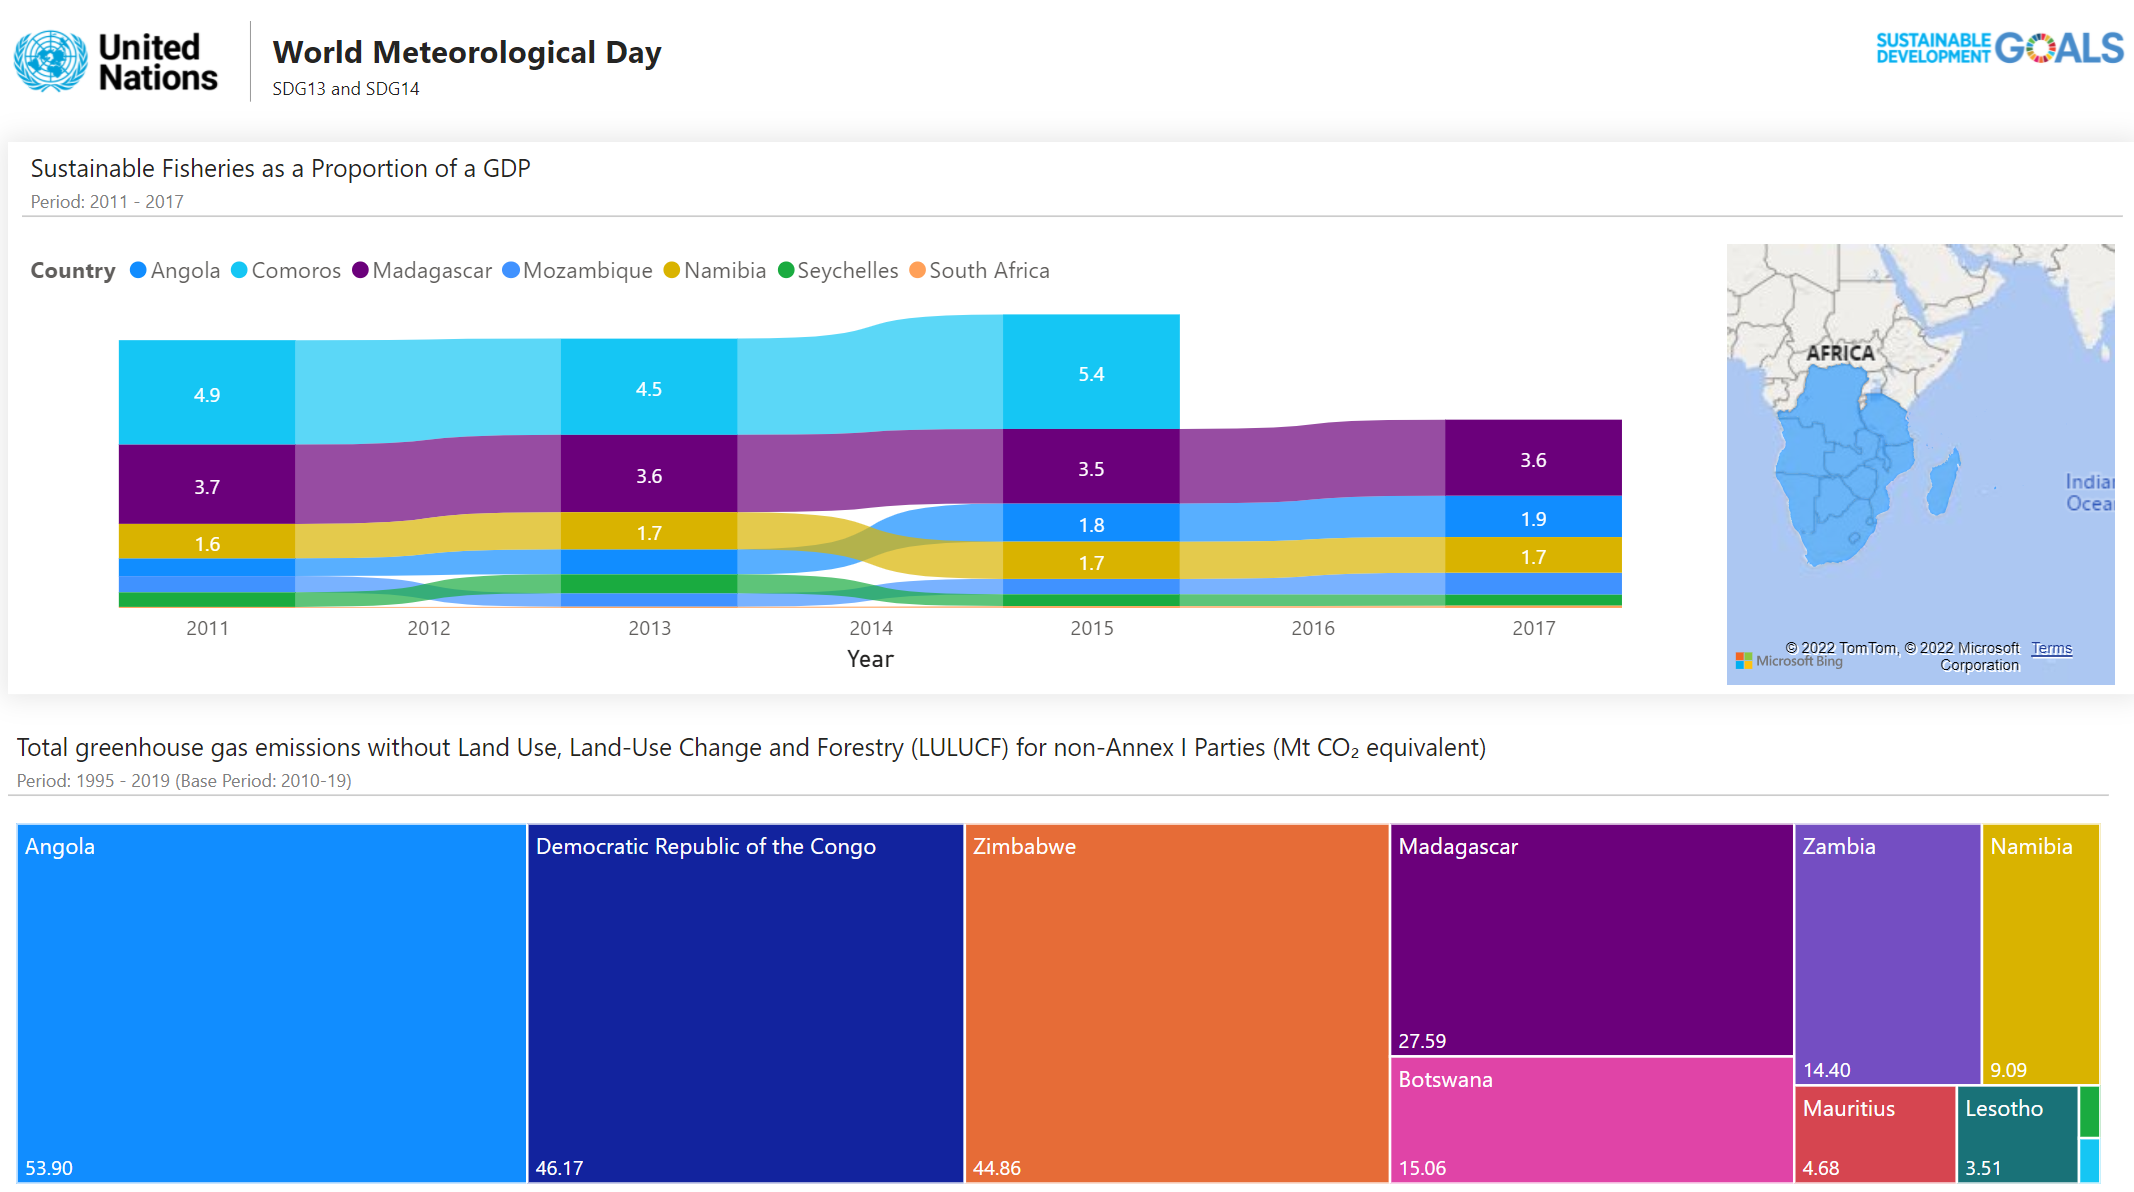

This screenshot's page, from the dashboard's own definition file:
{"tool":"powerbi","page":{"name":"Page 1","canvas":[1280,720],"ordinal":0},"visuals":[{"type":"image","box":[0,16,152,48],"z":0},{"type":"shape","box":[144,16,16,48],"z":1000},{"type":"textbox","box":[160,16,520,56],"z":2000},{"type":"image","box":[1112,0,160,64],"z":3000},{"type":"shape","box":[8,88,1264,328],"z":4000},{"type":"shape","box":[16,120,1248,24],"z":5000},{"type":"textbox","box":[16,88,504,64],"z":6000},{"type":"filledMap","fields":{"Category":["sadc_countries.Country"]},"box":[1024,144,240,272],"z":7000},{"type":"textbox","box":[8,432,1040,64],"z":8000},{"type":"shape","box":[8,464,1248,24],"z":9000},{"type":"ribbonChart","fields":{"Category":["data_sdg13-14.timePeriodStart.Variation.Date Hierarchy.Year","data_sdg13-14.timePeriodStart.Variation.Date Hierarchy.Quarter","data_sdg13-14.timePeriodStart.Variation.Date Hierarchy.Month","data_sdg13-14.timePeriodStart.Variation.Date Hierarchy.Day"],"Y":["Avg(data_sdg13-14.value)"],"Series":["data_sdg13-14.geoAreaName"]},"box":[16,144,1008,264],"z":10000},{"type":"treemap","fields":{"Values":["Avg(data_sdg13-14.value)"],"Group":["data_sdg13-14.geoAreaName"]},"box":[8,488,1248,224],"z":11000}]}

Visuals, with their boxes in screenshot pixels (x1, y1, x2, y2), scaled from the page's 1280x720 canvas onto the 2134x1192 screenshot:
image: rect(0, 26, 253, 106)
shape: rect(240, 26, 267, 106)
textbox: rect(267, 26, 1134, 119)
image: rect(1854, 0, 2121, 106)
shape: rect(13, 146, 2121, 689)
shape: rect(27, 199, 2107, 238)
textbox: rect(27, 146, 867, 252)
filledMap - sadc_countries.Country: rect(1707, 238, 2107, 689)
textbox: rect(13, 715, 1747, 821)
shape: rect(13, 768, 2094, 808)
ribbonChart - data_sdg13-14.timePeriodStart.Variation.Date Hierarchy.Year x data_sdg13-14.timePeriodStart.Variation.Date Hierarchy.Quarter: rect(27, 238, 1707, 675)
treemap - Avg(data_sdg13-14.value) x data_sdg13-14.geoAreaName: rect(13, 808, 2094, 1179)
